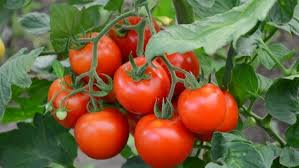tomate: (62, 27, 233, 164)
